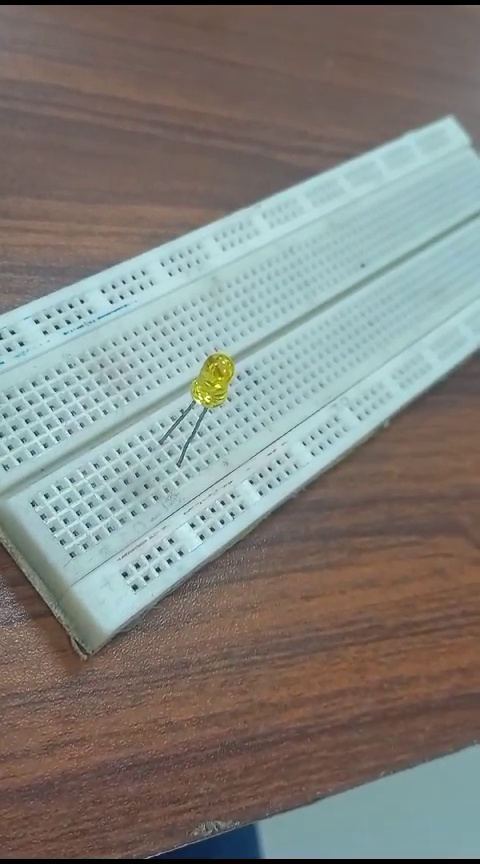LED: (160, 347, 234, 463)
